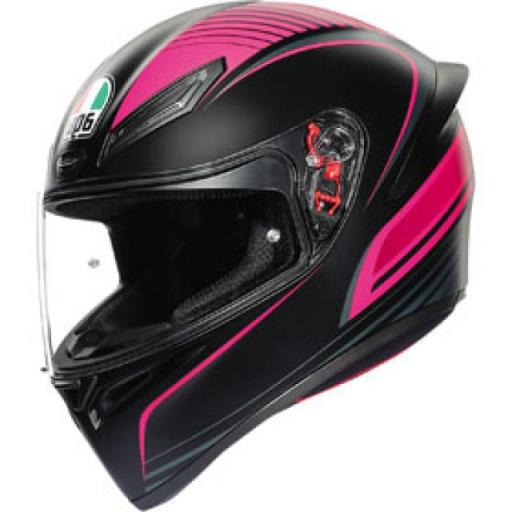Helmet: (40, 7, 491, 487)
